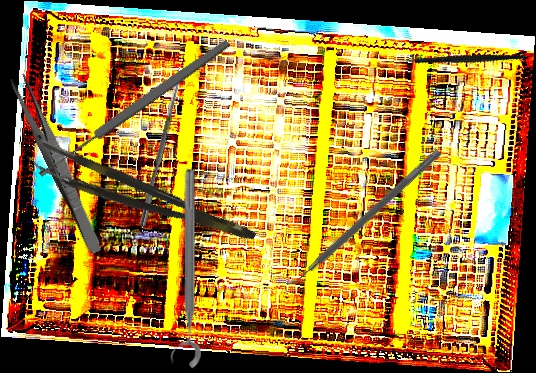Chopper: (392, 16, 526, 108)
Dressing Forceps: (7, 72, 108, 256)
Fixation Ring: (168, 169, 201, 369)
Spatula Surgical: (281, 141, 443, 293)
Surgical Spoon: (36, 37, 232, 180), (139, 67, 186, 228)
Tissue Forceps: (30, 138, 258, 261)
